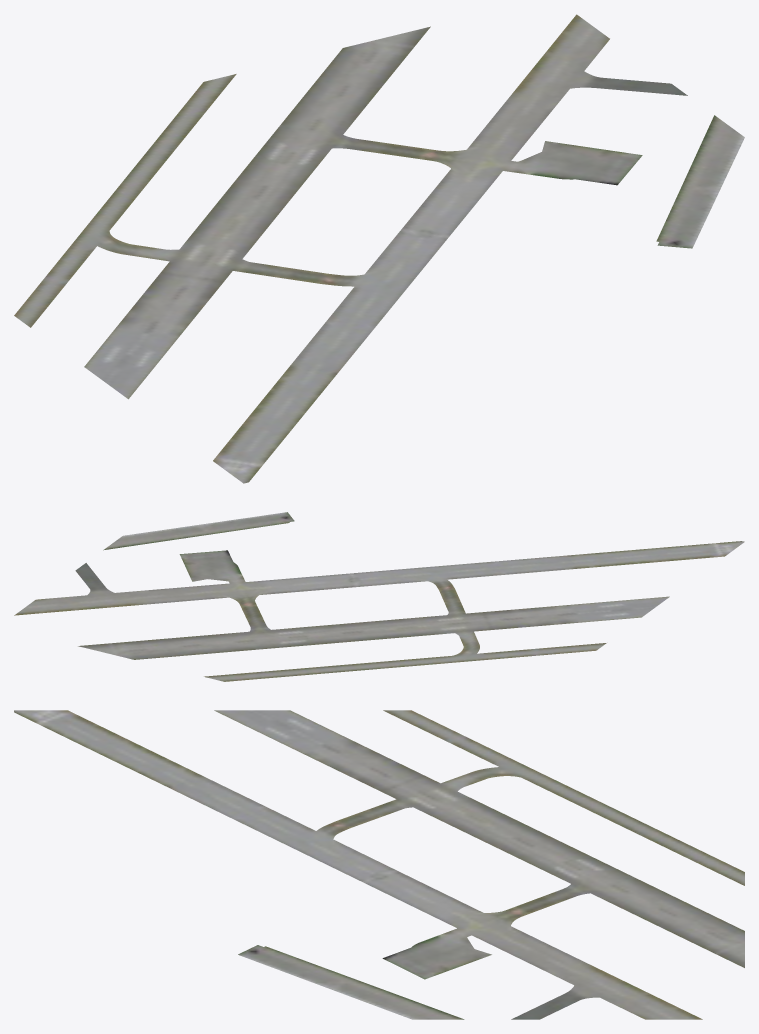
Rendered from LSMP_-1_-1.glb.
3 views of the same model, one above another, from view 1: azimuth 30°, elevation 25°; view 2: azimuth 150°, elevation 25°; view 3: azimuth 270°, elevation 25° (orthographic). The views are drawn at different scales.
Parts seen in each view (by area): view 1: pavement_LSMP_pavement_5119_2375; view 2: pavement_LSMP_pavement_5119_2375; view 3: pavement_LSMP_pavement_5119_2375.
Part boxes in pixels (left/top/right/bottom): pavement_LSMP_pavement_5119_2375: left=14, top=14, right=744, bottom=483; pavement_LSMP_pavement_5119_2375: left=14, top=512, right=744, bottom=681; pavement_LSMP_pavement_5119_2375: left=14, top=710, right=744, bottom=1019.
Bounding box in the file's own units: 500 × 0.5138 × 500.
Materials: 1 (1 with a texture image).
